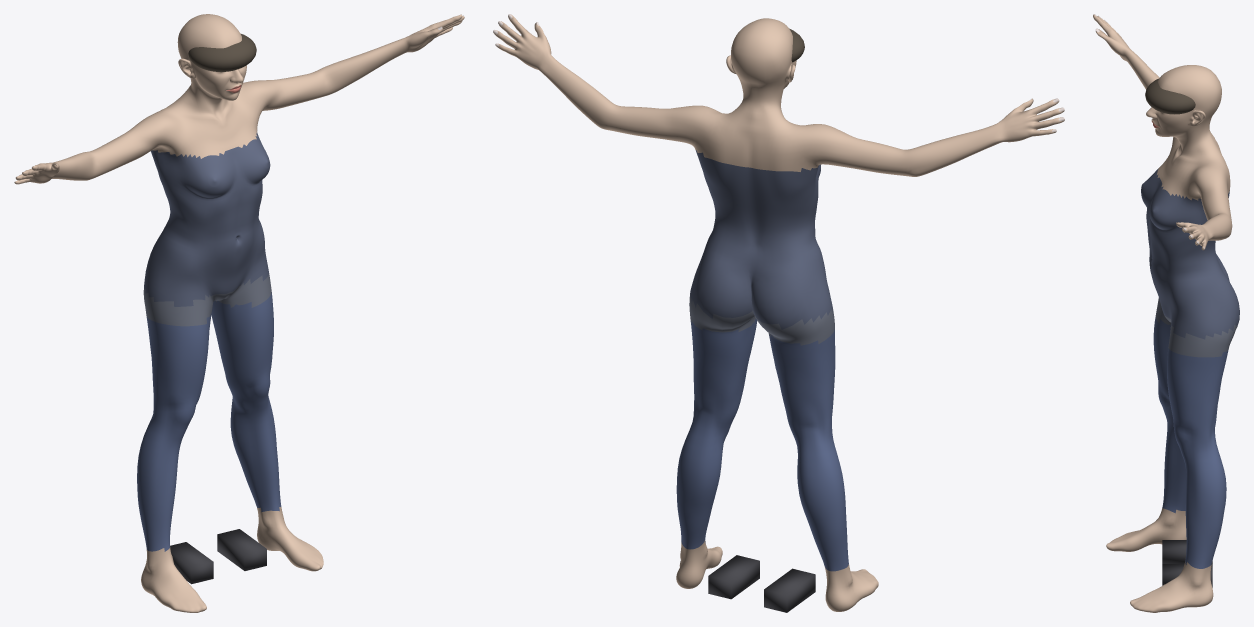
File: hm_ped_noah_v13.glb
3 renders of one model, left to right at view 1: azimuth 30°, elevation 25°; view 2: azimuth 150°, elevation 25°; view 3: azimuth 270°, elevation 25°, orthographic. The views are drawn at different scales.
Parts seen in each view (by area): view 1: hm_ped_noah; view 2: hm_ped_noah; view 3: hm_ped_noah.
Part boxes in pixels (x1,y1,x2,y2): hm_ped_noah: (14, 14, 464, 612); hm_ped_noah: (493, 14, 1064, 612); hm_ped_noah: (1093, 14, 1239, 612).
Bounding box in the file's own units: 1.68 × 1.78 × 0.4671.
